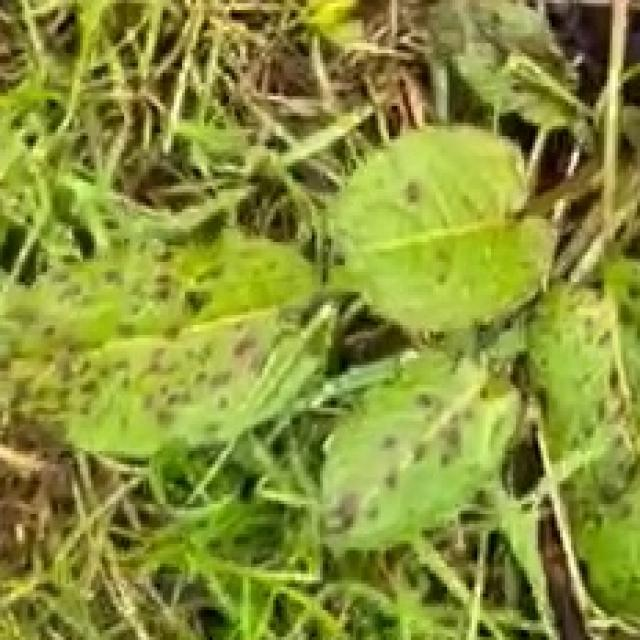organic waste: (0, 70, 640, 551)
